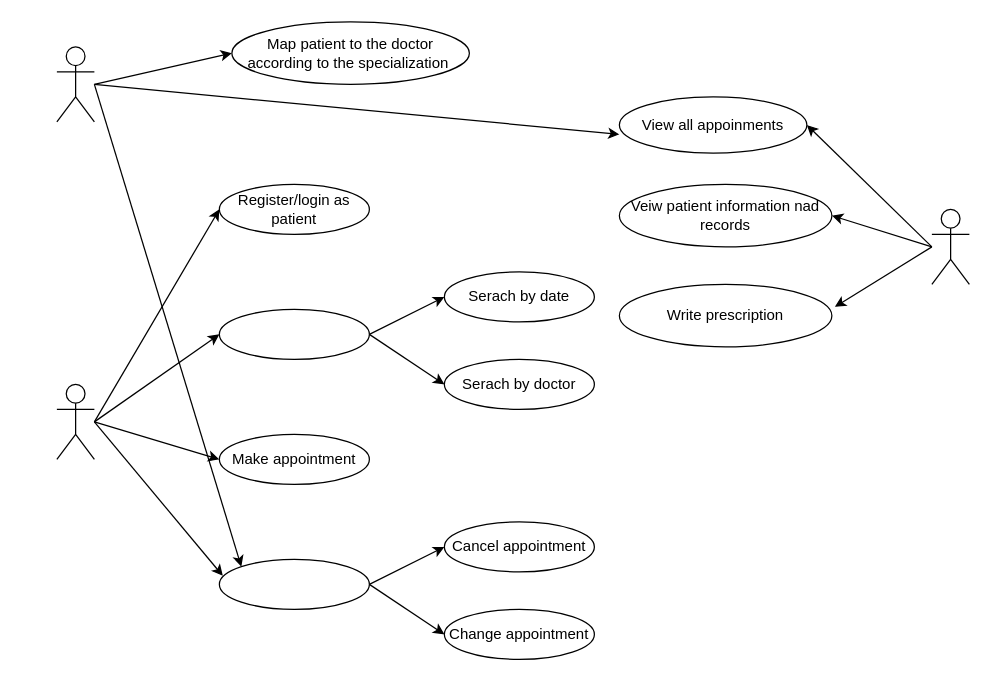
Some shapes in this 994 by 681 pixel diagram are drawn without their labels. The box of each missing label's shape, as (x1, y1, x2, y2) in pixels:
Doctor: (931, 208, 969, 284)
Manage appoinment: (218, 558, 369, 609)
Mapping system: (56, 46, 94, 122)
Patient: (56, 383, 94, 459)
Seach appointment: (218, 308, 369, 359)
